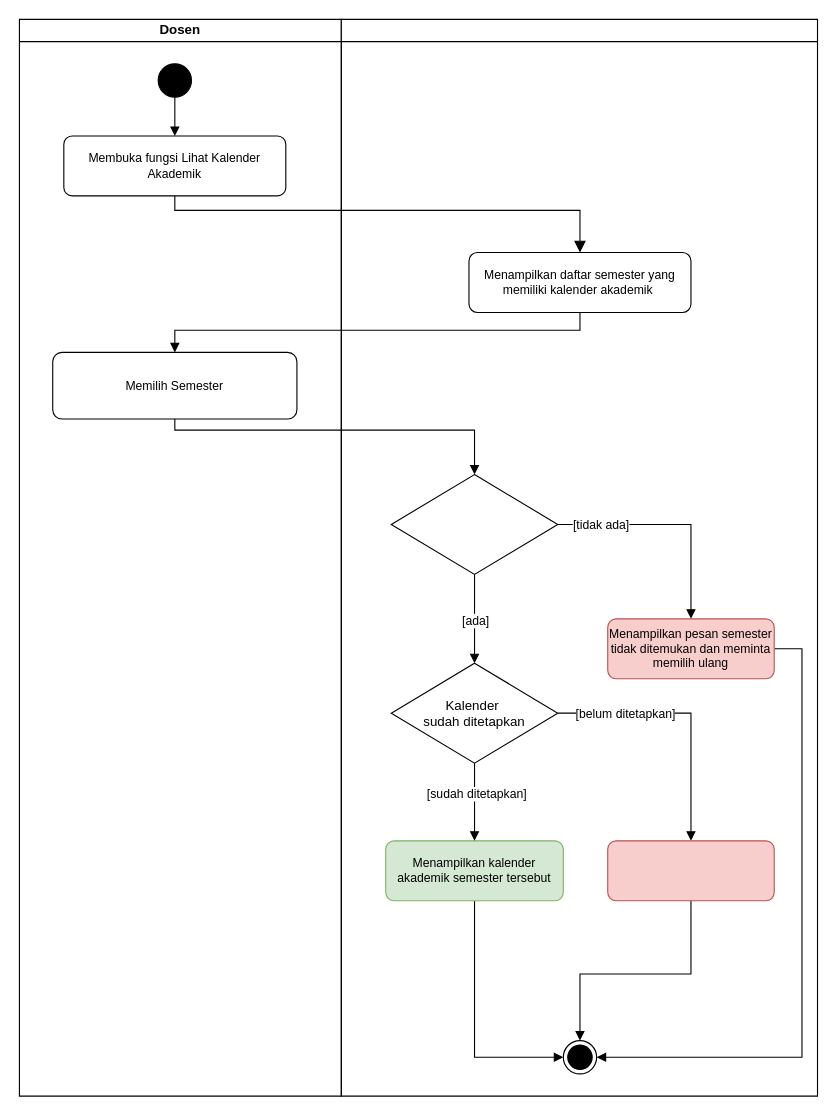
Image size: 837x1116. Some labels were removed from this diagram. Here are the shapes that lost their labels. From the top down, the box of each, then its label:
(390, 473, 558, 574): Semester ada pada daftar
(340, 18, 818, 1096): Sistem
(607, 840, 774, 901): Menampilkan pesan kalender akademik belum tersedia
